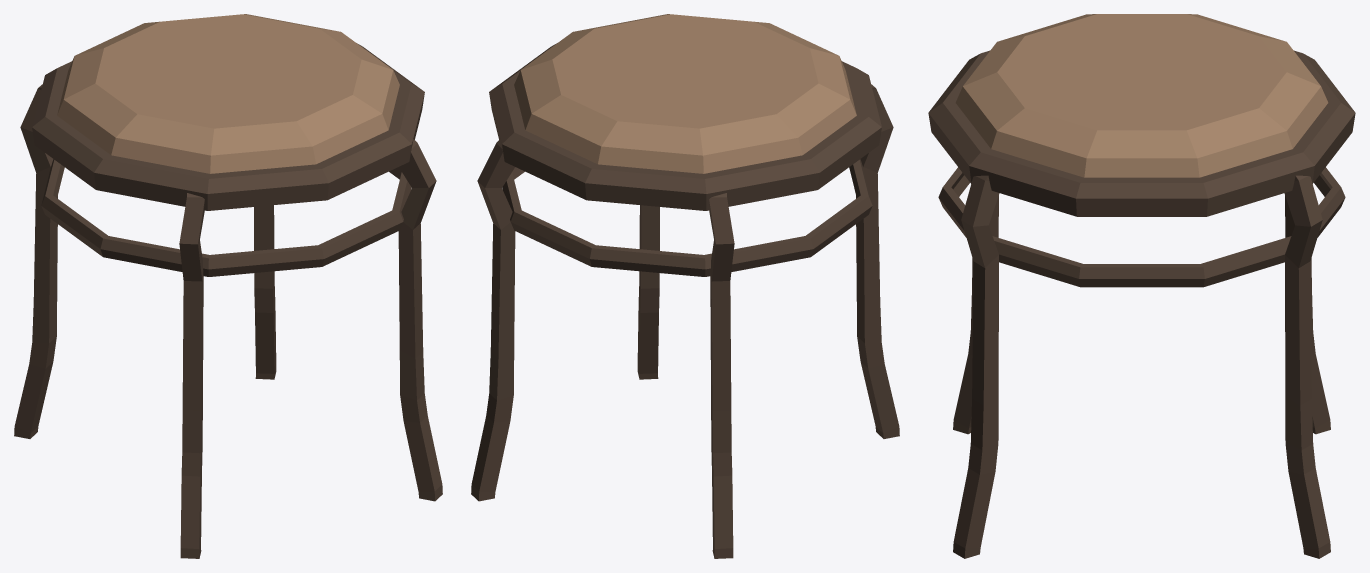
The model's file is pouf.glb.
The picture shows the model from 3 angles, left to right: view 1: azimuth 30°, elevation 25°; view 2: azimuth 150°, elevation 25°; view 3: azimuth 270°, elevation 25°; orthographic projection. The views are drawn at different scales.
Parts seen in each view (by area): view 1: Stool; view 2: Stool; view 3: Stool.
Part boxes in pixels (x1,y1,x2,y2): Stool: (14,14,442,558); Stool: (471,14,899,558); Stool: (928,14,1355,558).
Size of the model in its own units: 0.5072 by 0.5768 by 0.5334.
